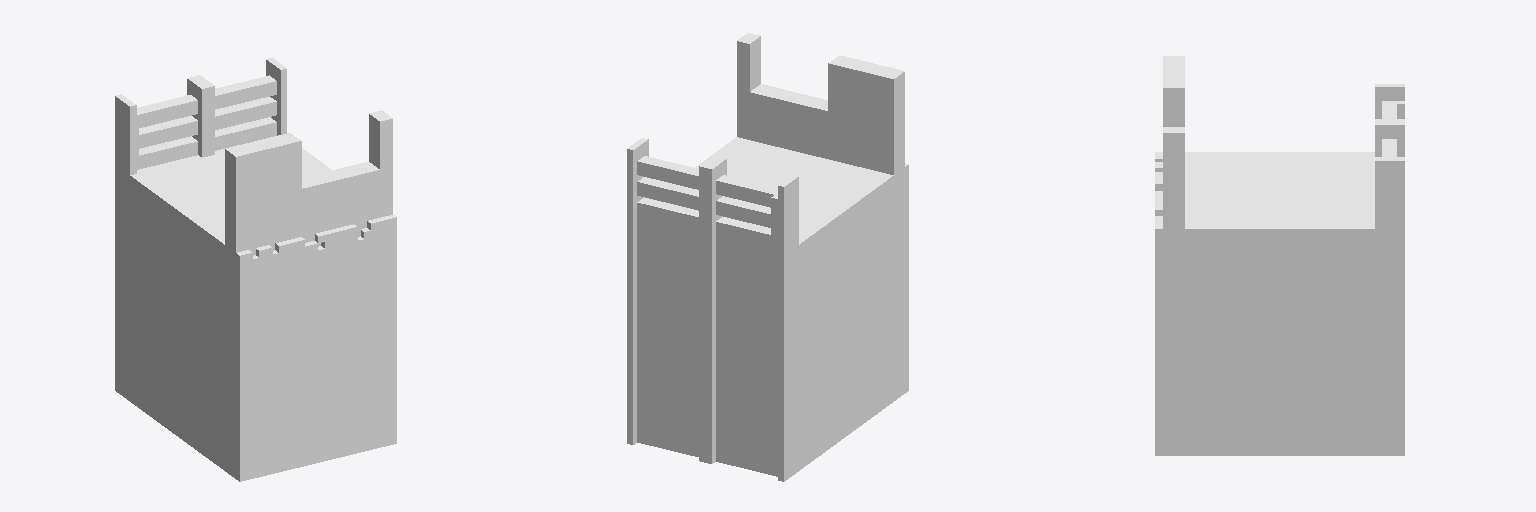
File: stone-wall.obj
3 views of the same model, side by side, from view 1: azimuth 30°, elevation 25°; view 2: azimuth 150°, elevation 25°; view 3: azimuth 270°, elevation 25° (orthographic).
Size of the model in its own units: 24 by 47 by 33.